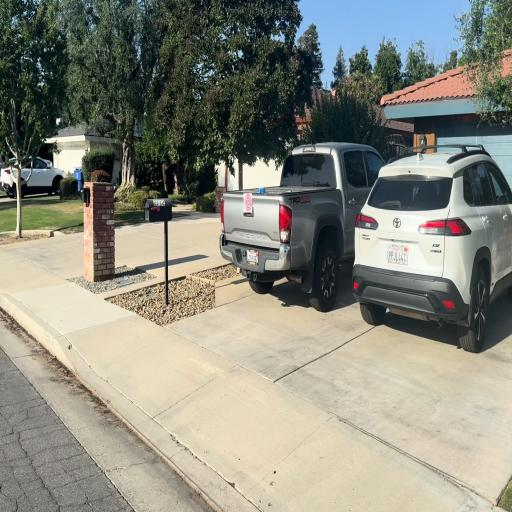bullseye: (244, 194, 252, 213)
